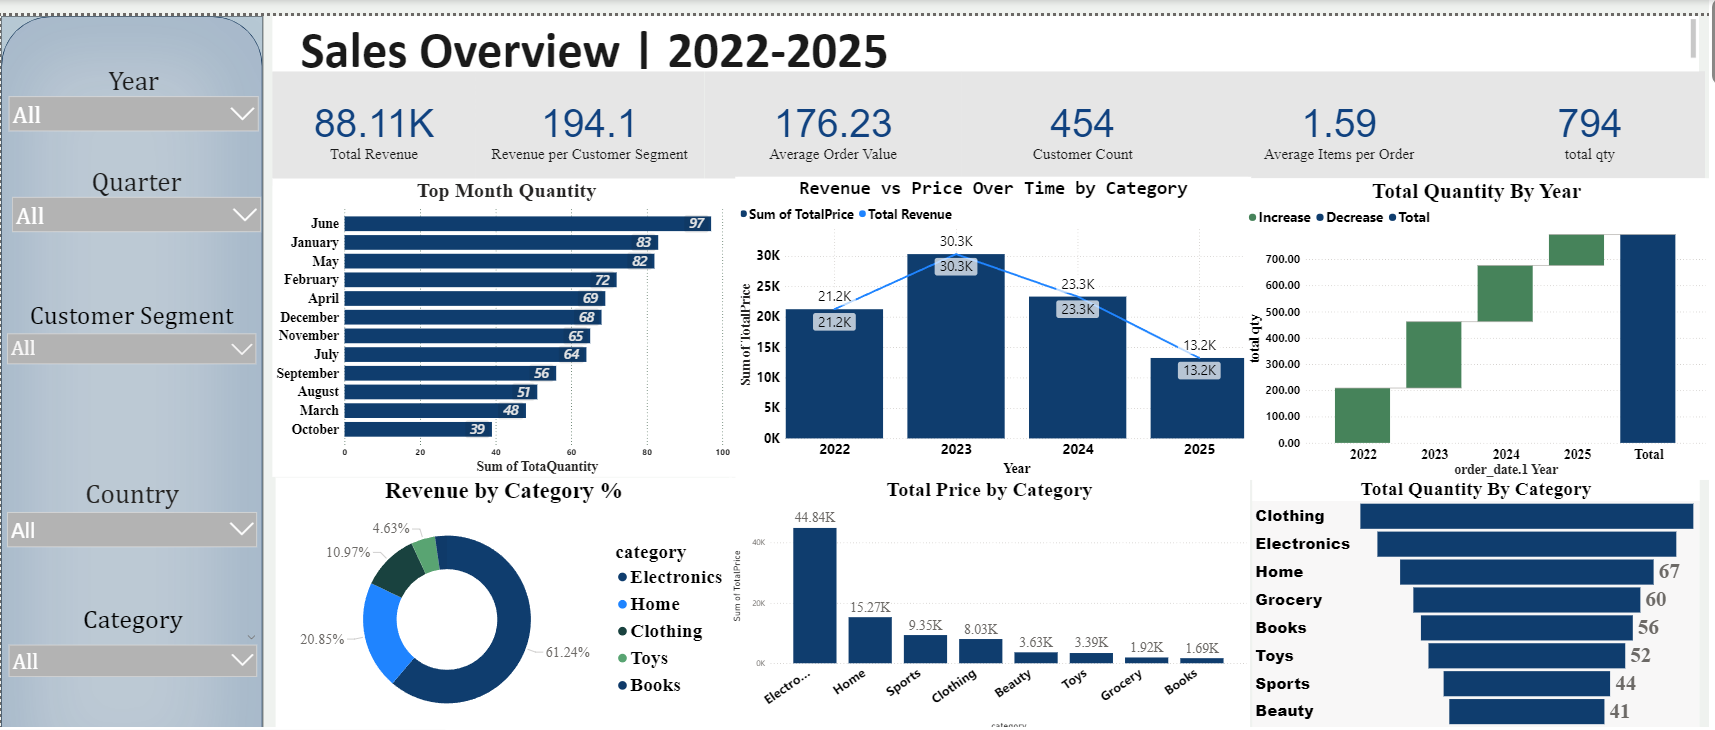

The page's visual inventory and layout, read from the dashboard file:
{"tool":"powerbi","page":{"name":"Page 2","canvas":[9999,9999],"ordinal":1},"visuals":[{"type":"card","fields":{"Values":["Table2.Total Revenue"]},"box":[442.5,-2.5,309.8,180],"z":0,"group":"g2"},{"type":"group","id":"g1","title":"Group 1","box":[1.2,0,416.2,1107.5],"z":0},{"type":"group","id":"g2","title":"Group 2","box":[442.5,-2.5,2182.5,180],"z":1000},{"type":"card","fields":{"Values":["Table2.total qty"]},"box":[2274.4,-2.5,350.6,180],"z":1000,"group":"g2"},{"type":"card","fields":{"Values":["Table2.Customer Count"]},"box":[1491.6,-2.5,369.6,180],"z":2000,"group":"g2"},{"type":"group","id":"g3","title":"Group 3","box":[442.5,175,2182.5,912.5],"z":2000},{"type":"card","fields":{"Values":["Table2.Average Order Value"]},"box":[1100.2,-2.5,391.4,180],"z":3000,"group":"g2"},{"type":"slicer","title":"Customer Segment","fields":{"Values":["Table2.customer_segment"]},"box":[0,452.5,412.5,135],"z":3001},{"type":"card","fields":{"Values":["Table2.Revenue per Customer Segment"]},"box":[752.3,-2.5,347.9,180],"z":4000,"group":"g2"},{"type":"card","fields":{"Values":["Table2.Average Items per Order"]},"box":[1861.3,-2.5,413.1,180],"z":5000,"group":"g2"},{"type":"donutChart","title":"Revenue by Category %","fields":{"Category":["Table2.category"],"Y":["Table2.Revenue_Percentage"]},"box":[446.5,666.9,693.8,422.5],"z":6000,"group":"g3"},{"type":"lineClusteredColumnComboChart","title":"Revenue vs Price Over Time by Category","fields":{"Category":["Table2.order_date.1.Variation.Date Hierarchy.Year"],"Y":["Sum(Table2.TotalPrice)"],"Y2":["Table2.Total Revenue"]},"box":[1145.6,175,784.2,492.5],"z":7000,"group":"g3"},{"type":"funnel","title":"Total Qty By Category","fields":{"Category":["Table2.category"],"Y":["Table2.total qty"]},"box":[1932.5,666.9,680.5,412.5],"z":8000,"group":"g3"},{"type":"waterfallChart","title":"Total Qty By Year","fields":{"Category":["Table2.order_date.1.Variation.Date Hierarchy.Year","Table2.order_date.1.Variation.Date Hierarchy.Quarter","Table2.order_date.1.Variation.Date Hierarchy.Month","Table2.order_date.1.Variation.Date Hierarchy.Day"],"Y":["Table2.total qty"]},"box":[1919.2,176.9,707.1,492.5],"z":9000,"group":"g3"},{"type":"columnChart","fields":{"Category":["Table2.category"],"Y":["Sum(Table2.TotalPrice)"]},"box":[1137.7,666.9,792.2,420],"z":10000,"group":"g3"},{"type":"barChart","fields":{"Category":["Table2.Month Name"],"Y":["Sum(Table2.TotaQuantity)"]},"box":[442.5,176.9,712.4,487.5],"z":14000,"group":"g3"},{"type":"shape","box":[2.4,0,412.5,1107.5],"z":15125,"group":"g1"},{"type":"slicer","title":"Year","fields":{"Values":["Table2.Year"]},"box":[5,70,412.5,167.5],"z":15250,"group":"g1"},{"type":"slicer","title":"Quarter","fields":{"Values":["Table2.Quarter"]},"box":[7.5,237.5,412.5,167.5],"z":15250},{"type":"slicer","title":"Category","fields":{"Values":["Table2.category"]},"box":[3.1,827.5,410,215],"z":15500,"group":"g1"},{"type":"slicer","title":"Country","fields":{"Values":["Table2.country"]},"box":[1.2,650,412.5,177.5],"z":17000,"group":"g1"}]}

Visuals, with their boxes on the page's 9999x9999 design canvas (x1, y1, x2, y2). These are canvas units, not pixel positions in the 1715x730 screenshot, which may show the page scaled, cropped or inside an application window:
card - Table2.Total Revenue: [442,-2,752,178]
"Group 1" group: [1,0,417,1108]
"Group 2" group: [442,-2,2625,178]
card - Table2.total qty: [2274,-2,2625,178]
card - Table2.Customer Count: [1492,-2,1861,178]
"Group 3" group: [442,175,2625,1088]
card - Table2.Average Order Value: [1100,-2,1492,178]
"Customer Segment" slicer: [0,452,412,588]
card - Table2.Revenue per Customer Segment: [752,-2,1100,178]
card - Table2.Average Items per Order: [1861,-2,2274,178]
"Revenue by Category %" donutChart: [446,667,1140,1089]
"Revenue vs Price Over Time by Category" lineClusteredColumnComboChart: [1146,175,1930,668]
"Total Qty By Category" funnel: [1932,667,2613,1079]
"Total Qty By Year" waterfallChart: [1919,177,2626,669]
columnChart - Table2.category x Sum(Table2.TotalPrice): [1138,667,1930,1087]
barChart - Table2.Month Name x Sum(Table2.TotaQuantity): [442,177,1155,664]
shape: [2,0,415,1108]
"Year" slicer: [5,70,418,238]
"Quarter" slicer: [8,238,420,405]
"Category" slicer: [3,828,413,1042]
"Country" slicer: [1,650,414,828]
